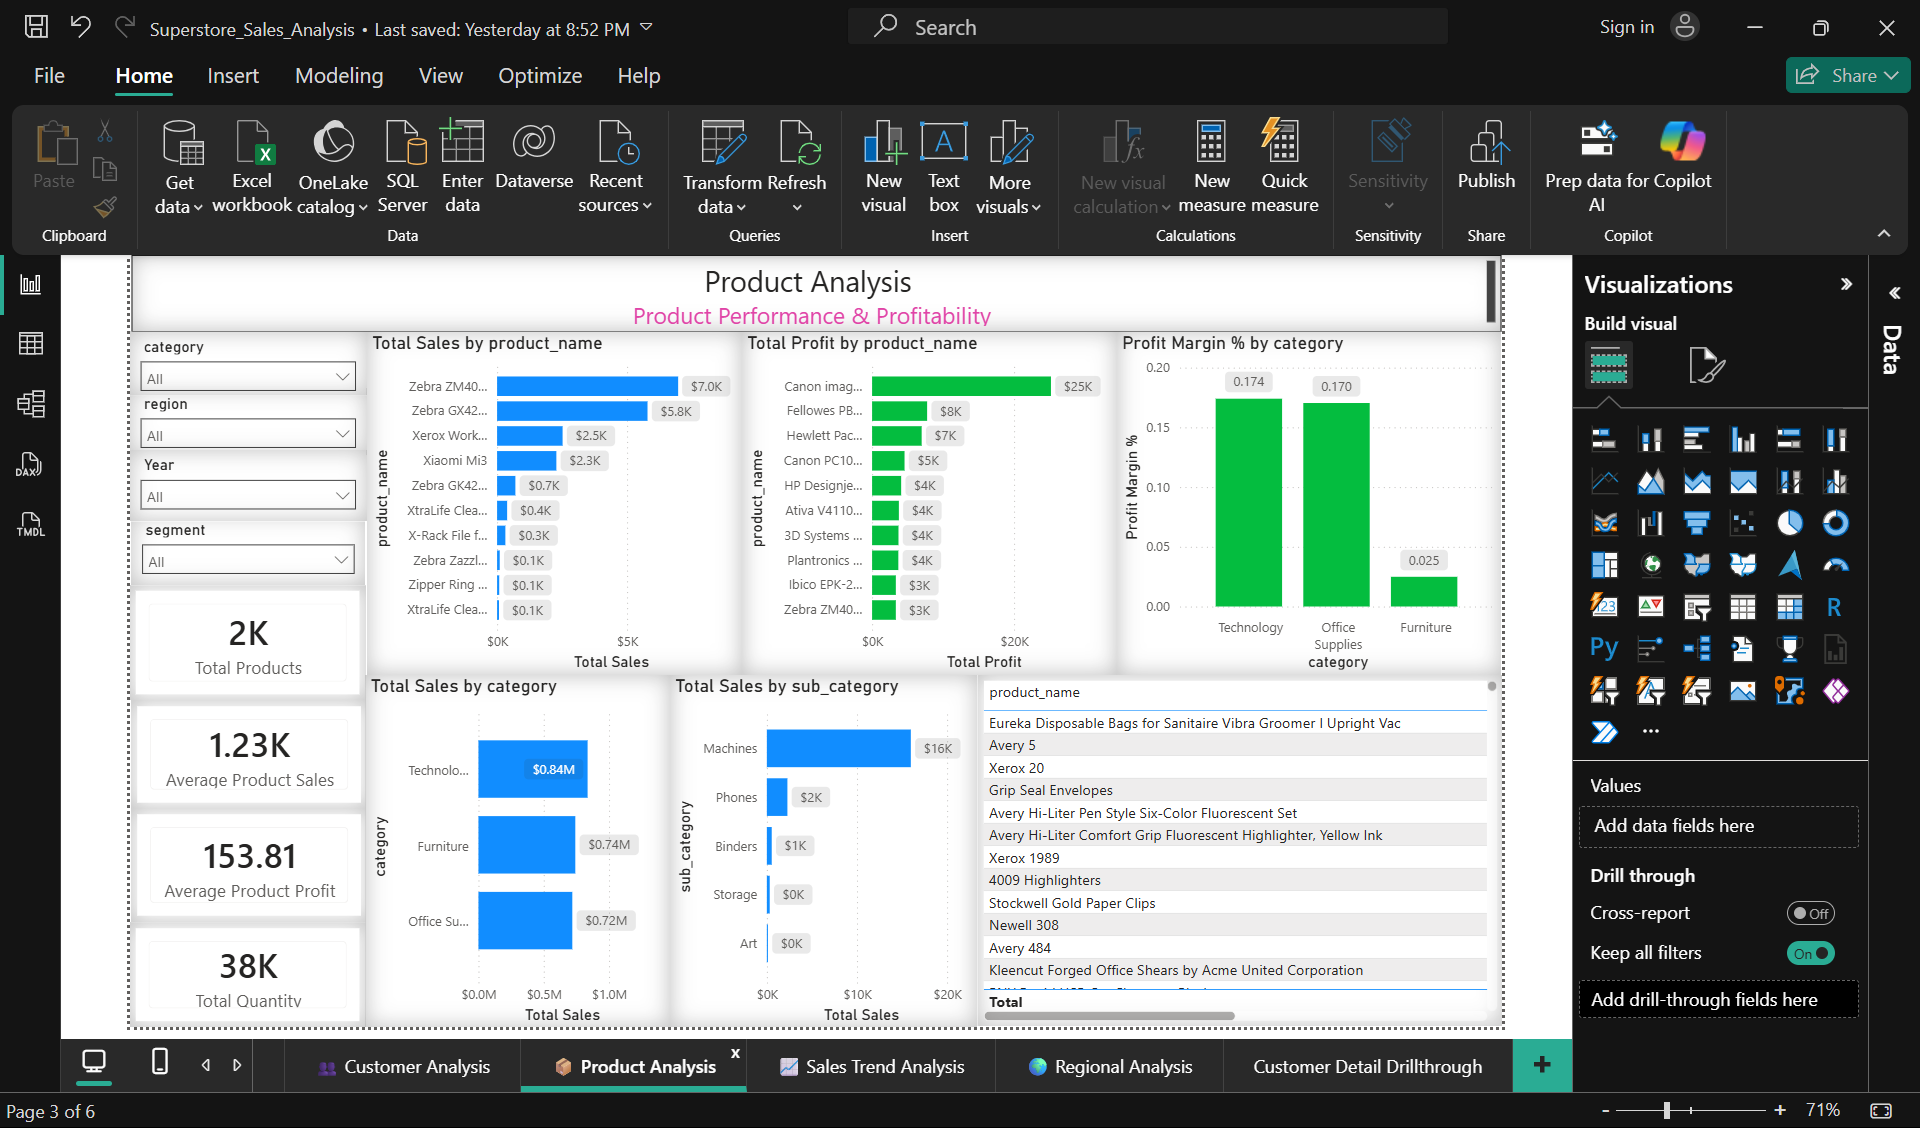

This screenshot's page, from the dashboard's own definition file:
{"tool":"powerbi","page":{"name":"📦 Product Analysis","canvas":[1280,720],"ordinal":2},"visuals":[{"type":"textbox","box":[1.7,0,1277.1,71],"z":0},{"type":"cardVisual","fields":{"Data":["public orders.Total Products"]},"box":[0,308,219.8,107.3],"z":0,"group":"g1"},{"type":"barChart","fields":{"Category":["public orders.product_name"],"Y":["public orders.Total Sales"]},"box":[221.5,71,349.6,320.1],"z":1000},{"type":"cardVisual","fields":{"Data":["public orders.Total Quantity"]},"box":[0,622.4,219.9,97.5],"z":1000,"group":"g1"},{"type":"group","id":"g1","title":"Group 1","box":[0,308,221.5,411.9],"z":2000},{"type":"cardVisual","fields":{"Data":["public orders.Average Product Sales"]},"box":[1.7,415.8,219.9,100.8],"z":2000,"group":"g1"},{"type":"group","id":"g2","title":"Group 1","box":[0,71,220.9,236.5],"z":3000},{"type":"cardVisual","fields":{"Data":["public orders.Average Product Profit"]},"box":[1.7,516.6,219.9,105.8],"z":3000,"group":"g1"},{"type":"barChart","fields":{"Category":["public orders.category"],"Y":["public orders.Total Sales"]},"box":[219.6,391.7,284,328.8],"z":4000},{"type":"barChart","fields":{"Category":["public orders.sub_category"],"Y":["public orders.Total Sales"]},"box":[504.2,391.8,286,329],"z":5000},{"type":"columnChart","fields":{"Category":["public orders.category"],"Y":["public orders.Profit Margin %"]},"box":[920.6,71,358.2,320.1],"z":6000},{"type":"tableEx","fields":{"Values":["public orders.product_name","public orders.category","public orders.sub_category","Sum(public orders.sales)","Sum(public orders.profit)","Sum(public orders.quantity)"]},"box":[790.4,391.7,489.6,327.4],"z":7000},{"type":"barChart","fields":{"Category":["public orders.product_name"],"Y":["public orders.Total Profit"]},"box":[571.1,71,349.6,320.1],"z":8000},{"type":"slicer","fields":{"Values":["public orders.segment"]},"box":[1.4,241.7,218.2,65.8],"z":14000,"group":"g2"},{"type":"slicer","fields":{"Values":["public orders.region"]},"box":[0,124.5,220.9,62.1],"z":15000,"group":"g2"},{"type":"slicer","fields":{"Values":["public orders.order_date.Variation.Date Hierarchy.Year"]},"box":[0,181,220.9,66.6],"z":16000,"group":"g2"},{"type":"slicer","fields":{"Values":["public orders.category"]},"box":[0,71,220.9,59],"z":17000,"group":"g2"}]}

Visuals, with their boxes on the page's 1280x720 design canvas (x1, y1, x2, y2). These are canvas units, not pixel positions in the 1920x1128 screenshot, which may show the page scaled, cropped or inside an application window:
textbox: {"left": 2, "top": 0, "right": 1279, "bottom": 71}
cardVisual - public orders.Total Products: {"left": 0, "top": 308, "right": 220, "bottom": 415}
barChart - public orders.product_name x public orders.Total Sales: {"left": 222, "top": 71, "right": 571, "bottom": 391}
cardVisual - public orders.Total Quantity: {"left": 0, "top": 622, "right": 220, "bottom": 720}
"Group 1" group: {"left": 0, "top": 308, "right": 222, "bottom": 720}
cardVisual - public orders.Average Product Sales: {"left": 2, "top": 416, "right": 222, "bottom": 517}
"Group 1" group: {"left": 0, "top": 71, "right": 221, "bottom": 308}
cardVisual - public orders.Average Product Profit: {"left": 2, "top": 517, "right": 222, "bottom": 622}
barChart - public orders.category x public orders.Total Sales: {"left": 220, "top": 392, "right": 504, "bottom": 720}
barChart - public orders.sub_category x public orders.Total Sales: {"left": 504, "top": 392, "right": 790, "bottom": 721}
columnChart - public orders.category x public orders.Profit Margin %: {"left": 921, "top": 71, "right": 1279, "bottom": 391}
tableEx - public orders.product_name x public orders.category: {"left": 790, "top": 392, "right": 1280, "bottom": 719}
barChart - public orders.product_name x public orders.Total Profit: {"left": 571, "top": 71, "right": 921, "bottom": 391}
slicer - public orders.segment: {"left": 1, "top": 242, "right": 220, "bottom": 308}
slicer - public orders.region: {"left": 0, "top": 124, "right": 221, "bottom": 187}
slicer - public orders.order_date.Variation.Date Hierarchy.Year: {"left": 0, "top": 181, "right": 221, "bottom": 248}
slicer - public orders.category: {"left": 0, "top": 71, "right": 221, "bottom": 130}
